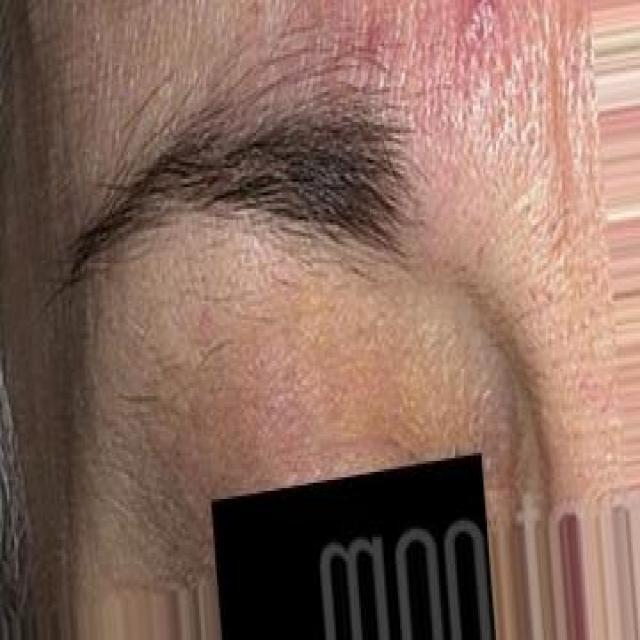Rosacea: (305, 0, 556, 102)
